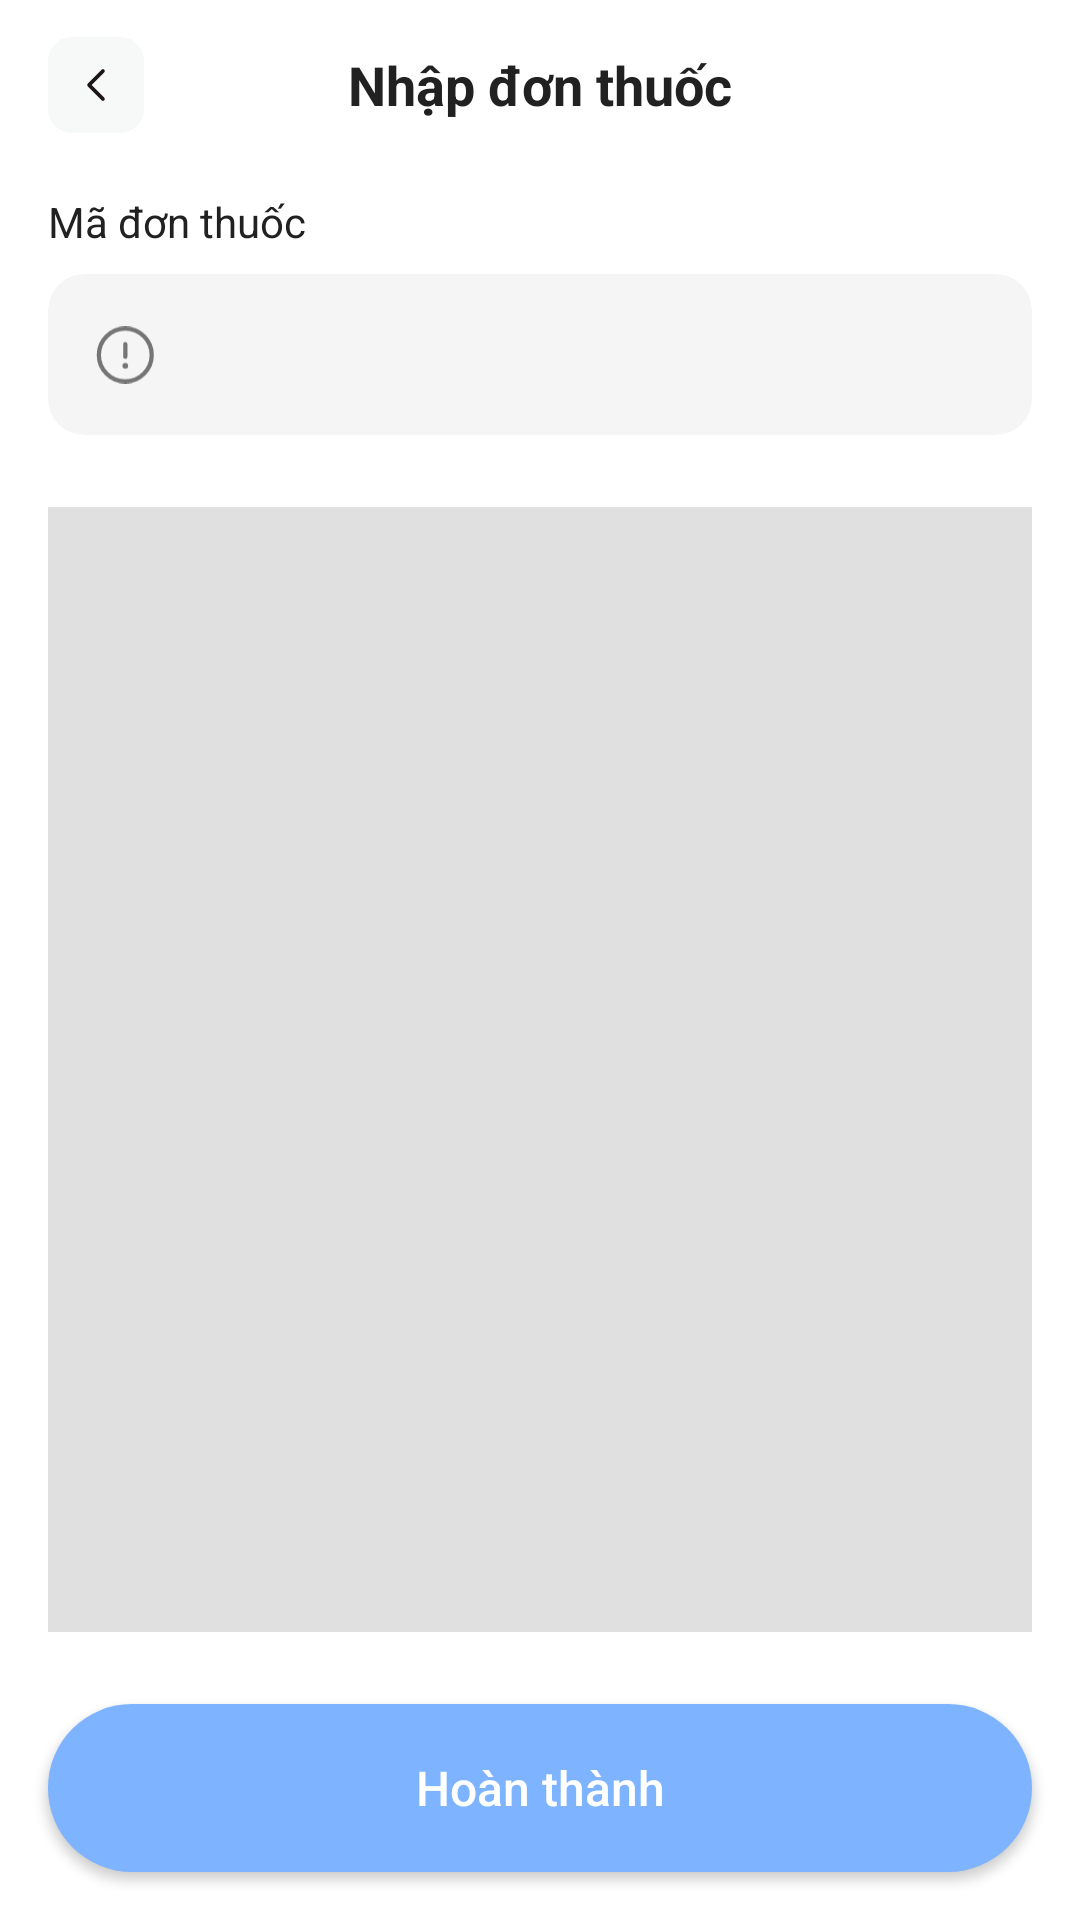

Icons on this 1080w x 1920h Android screen, each with its box as (x1, y1, x2, y2):
back: (87, 69, 105, 101)
